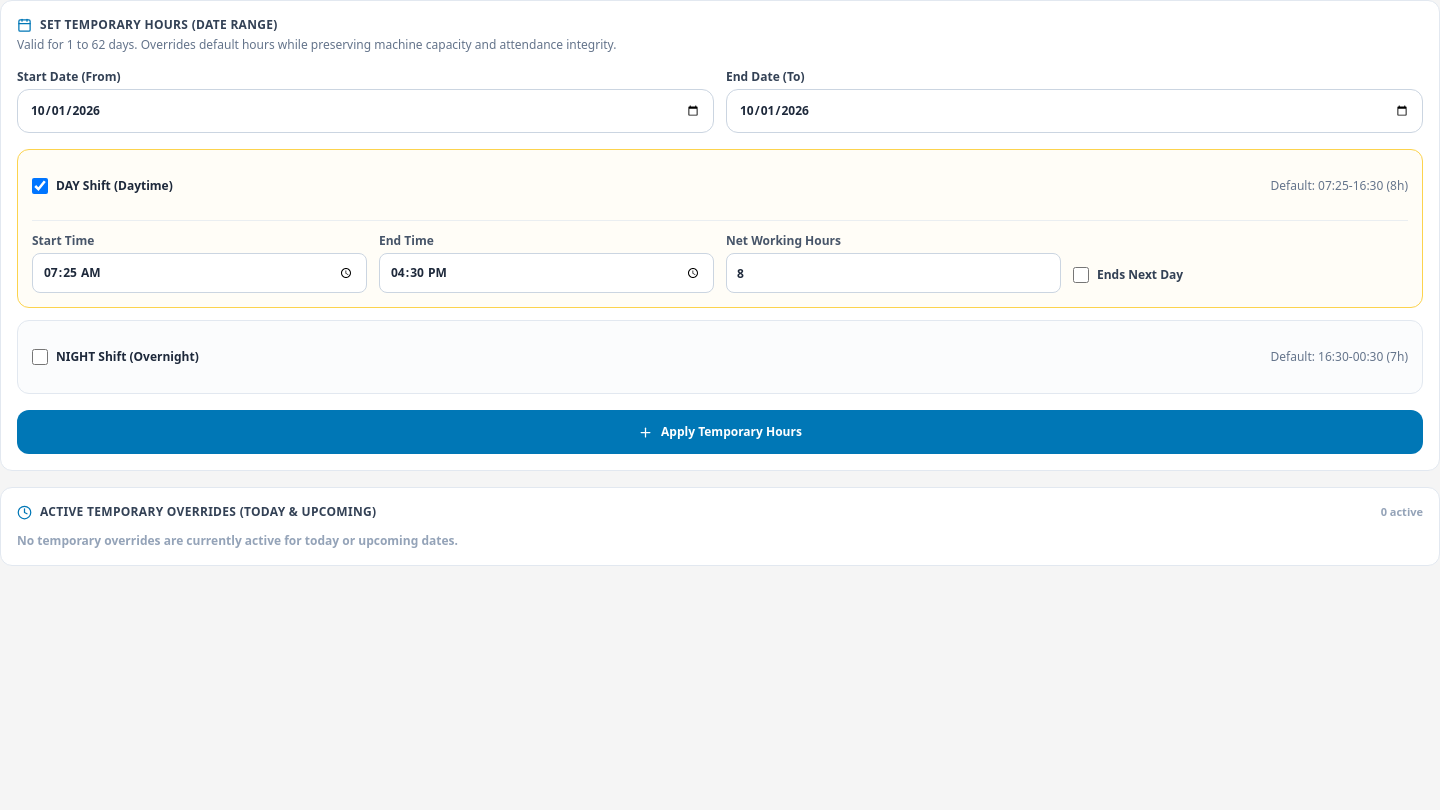
Test: DateRangeShiftForm › opens TodayImpactDialog when preview affects today
Click the button "Apply Temporary Hours" at (720, 432), box [17,410,1423,454]
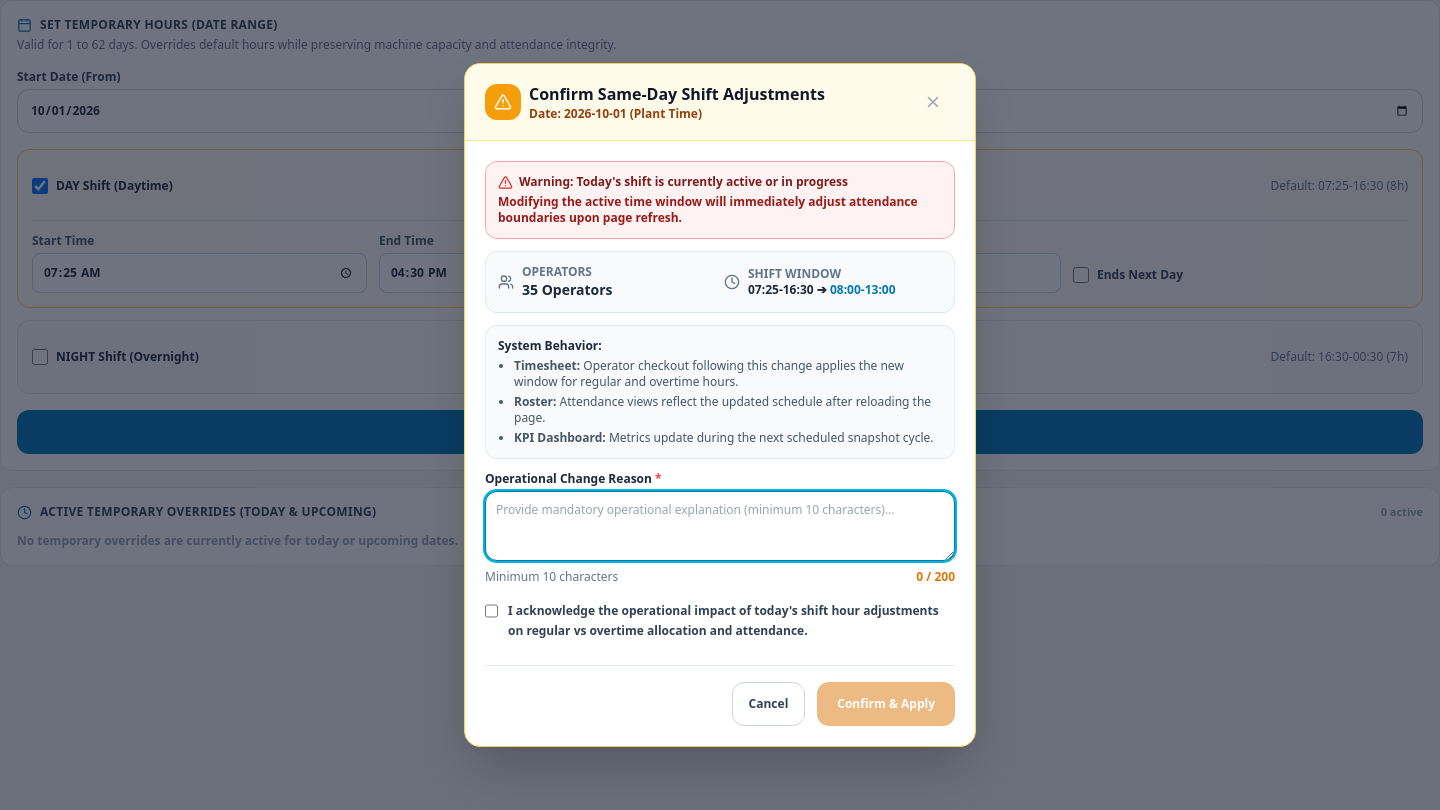
Now the heading "Confirm Same-Day Shift Adjustments" is shown, box [529,82,825,106]
Now the text "35 Operators" is shown, box [522,280,612,299]
Now the text "Warning: Today's shift is currently active or in progress" is shown, box [498,173,848,190]
